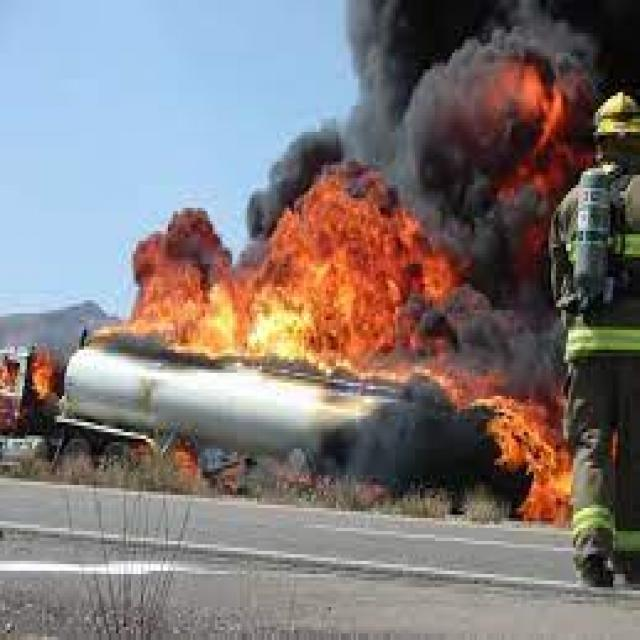fire: (242, 168, 465, 383), (89, 214, 240, 363), (477, 396, 568, 528), (2, 353, 60, 409)
smoke: (242, 3, 588, 168), (462, 152, 561, 392)
